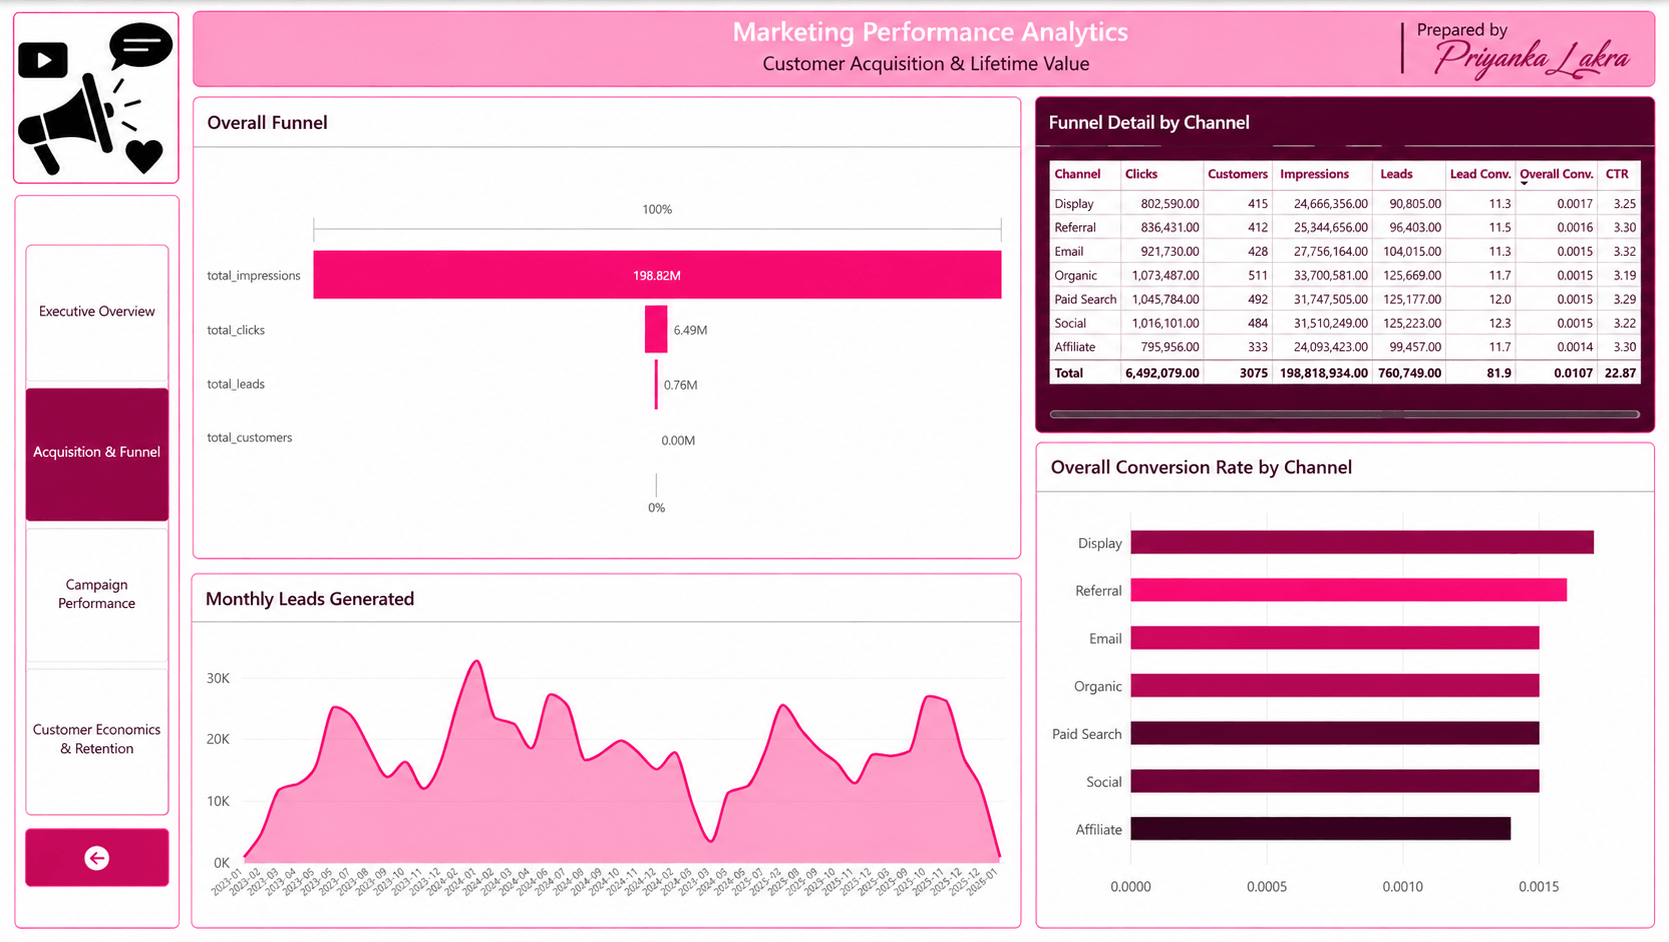

This screenshot's page, from the dashboard's own definition file:
{"tool":"powerbi","page":{"name":"Acquisition & Funnel","canvas":[1920,1080],"ordinal":1},"visuals":[{"type":"funnel","title":"Overall Funnel","fields":{"Category":["Funnel_Chart_Data.Attribute"],"Y":["Sum(Funnel_Chart_Data.Value)"]},"box":[217.2,108.6,958.9,537.4],"z":0},{"type":"shape","box":[20.2,219.1,185.9,854],"z":0,"group":"g1"},{"type":"clusteredBarChart","title":"Overall Conversion Rate by Channel","fields":{"Category":["marketing_analytics vw_channel_performance.channel_name"],"Y":["Sum(marketing_analytics vw_funnel_performance.overall_conversion_pct)"]},"box":[1192.6,506.1,712.3,554],"z":1000},{"type":"stackedAreaChart","title":"Monthly Leads Generated","fields":{"Category":["marketing_analytics vw_monthly_marketing_performance.month"],"Y":["Sum(marketing_analytics vw_monthly_marketing_performance.total_leads)"]},"box":[217.2,669.9,958.9,390.2],"z":2000},{"type":"tableEx","title":"Funnel Detail by Channel","fields":{"Values":["marketing_analytics vw_funnel_performance.channel_name","Sum(marketing_analytics vw_funnel_performance.total_clicks)","Sum(marketing_analytics vw_funnel_performance.total_customers)","Sum(marketing_analytics vw_funnel_performance.total_impressions)","Sum(marketing_analytics vw_funnel_performance.total_leads)","Sum(marketing_analytics vw_funnel_performance.lead_conversion_pct)","Sum(marketing_analytics vw_funnel_performance.overall_conversion_pct)","Sum(marketing_analytics vw_funnel_performance.ctr_pct)"]},"box":[1192.6,106.7,712.3,386.5],"z":3000},{"type":"group","id":"g1","title":"Group 1","box":[16.1,6.8,190,1066.3],"z":4000},{"type":"textbox","title":"Marketing Performance Analytics","box":[217.2,22.1,1687.7,75.5],"z":5000},{"type":"textbox","title":"Marketing Performance Analytics","box":[217.2,7.4,1678.5,82.8],"z":6000},{"type":"pageNavigator","box":[33.1,278,156.4,646],"z":6000,"group":"g1"},{"type":"actionButton","box":[33.1,940.6,156.4,68.1],"z":7000,"group":"g1"},{"type":"image","box":[16.1,6.8,184.1,198.8],"z":8000,"group":"g1"}]}

Visuals, with their boxes in screenshot pixels (x1, y1, x2, y2), scaled from the page's 1920x1080 canvas onto the 1669x942 screenshot:
"Overall Funnel" funnel: 189 95 1022 563
shape: 18 191 179 936
"Overall Conversion Rate by Channel" clusteredBarChart: 1037 441 1656 925
"Monthly Leads Generated" stackedAreaChart: 189 584 1022 925
"Funnel Detail by Channel" tableEx: 1037 93 1656 430
"Group 1" group: 14 6 179 936
"Marketing Performance Analytics" textbox: 189 19 1656 85
"Marketing Performance Analytics" textbox: 189 6 1648 79
pageNavigator: 29 242 165 806
actionButton: 29 820 165 880
image: 14 6 174 179
